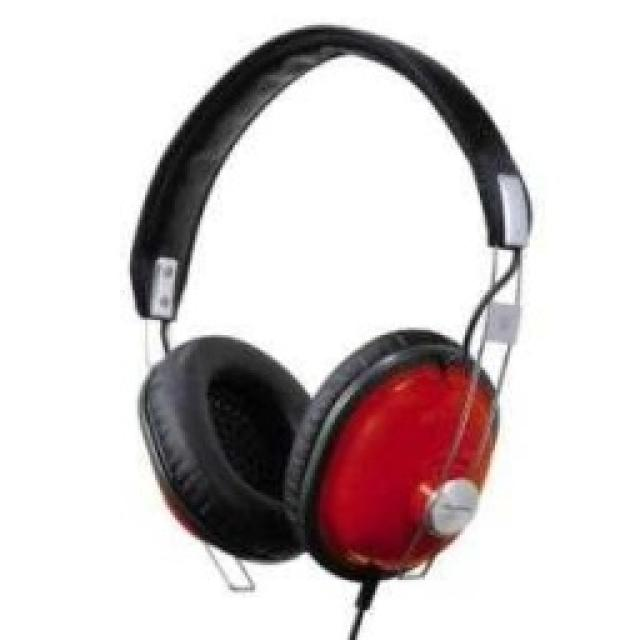headphones: (125, 20, 533, 585)
